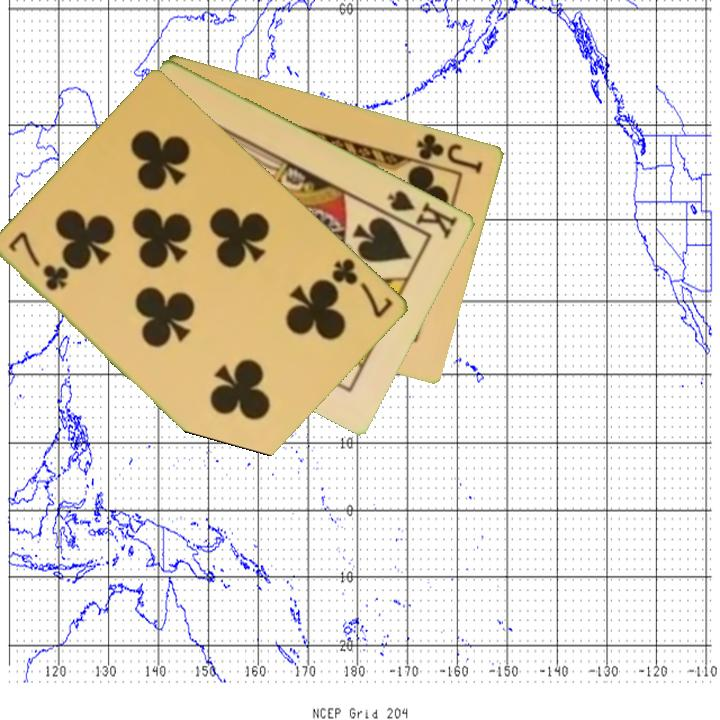7c: (328, 254, 397, 321), (5, 228, 73, 294)
Jc: (413, 129, 487, 177)
Ks: (384, 186, 462, 242)
